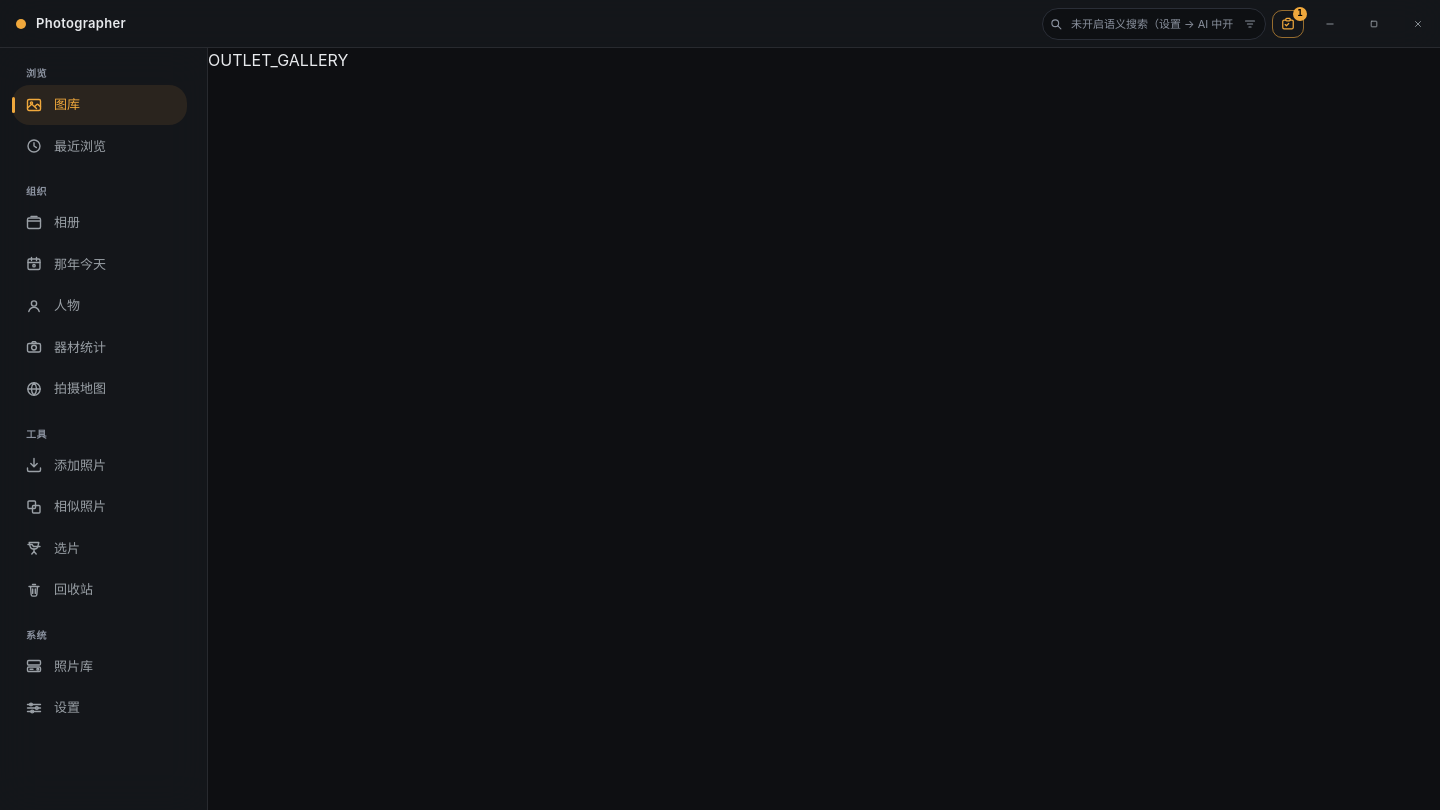
AppShell › 任务抽屉随壳常驻：TitleBar 开关徽标，打开后任意页面可见导入行（M4.5 A2）
The width and height of the screenshot is (1440, 810).
Check: the text with test id "taskdrawer-count" reads "1", box [1297,8,1303,18]
Click the button with test id "taskdrawer-toggle": (1288, 24) [1272,10,1304,38]
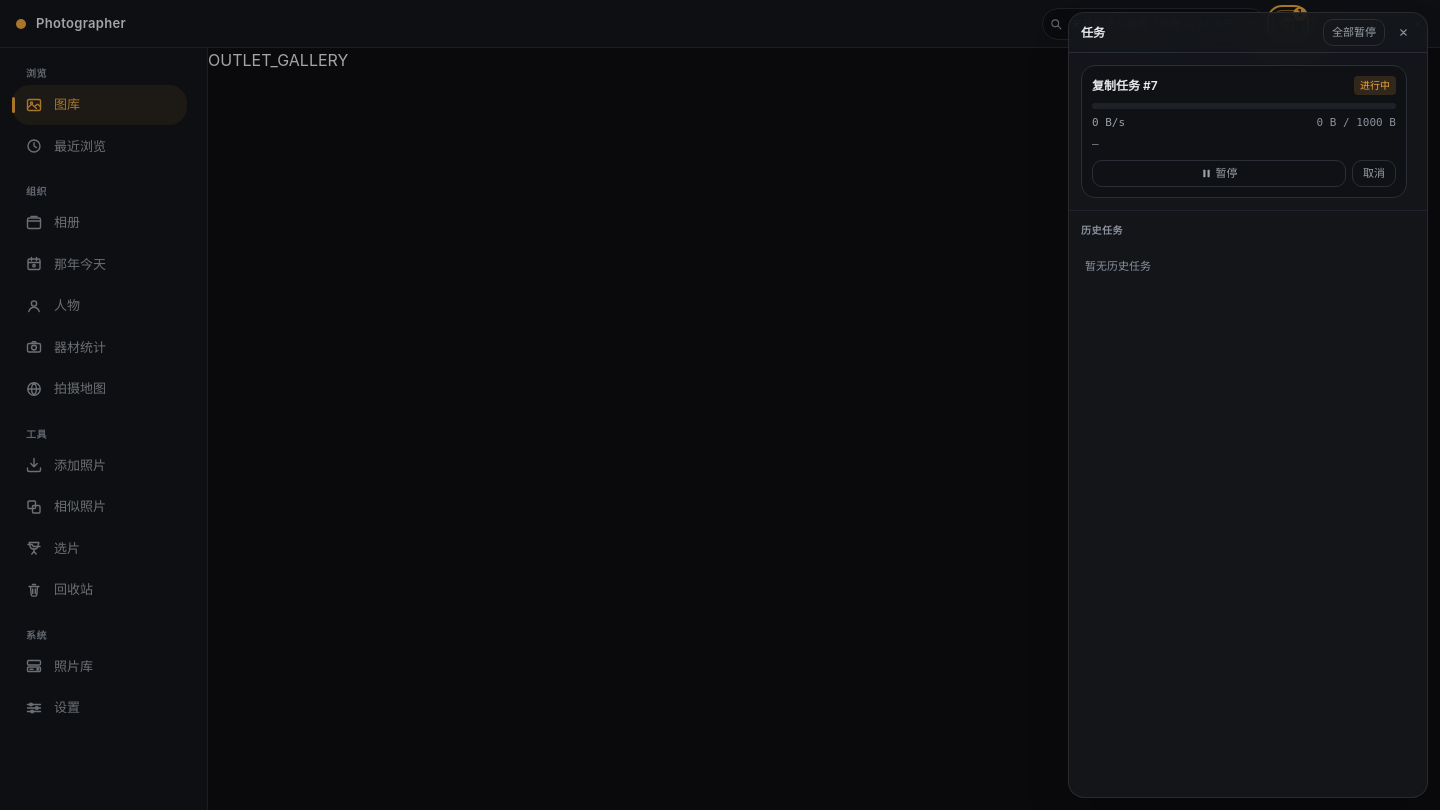
Check: the heading "复制任务 #7" is shown, box [1092,78,1158,94]
